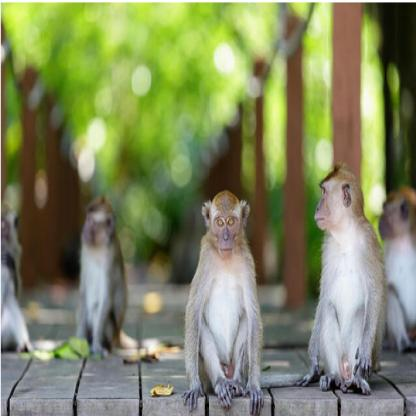monkey: (182, 189, 268, 415), (306, 161, 387, 399)
